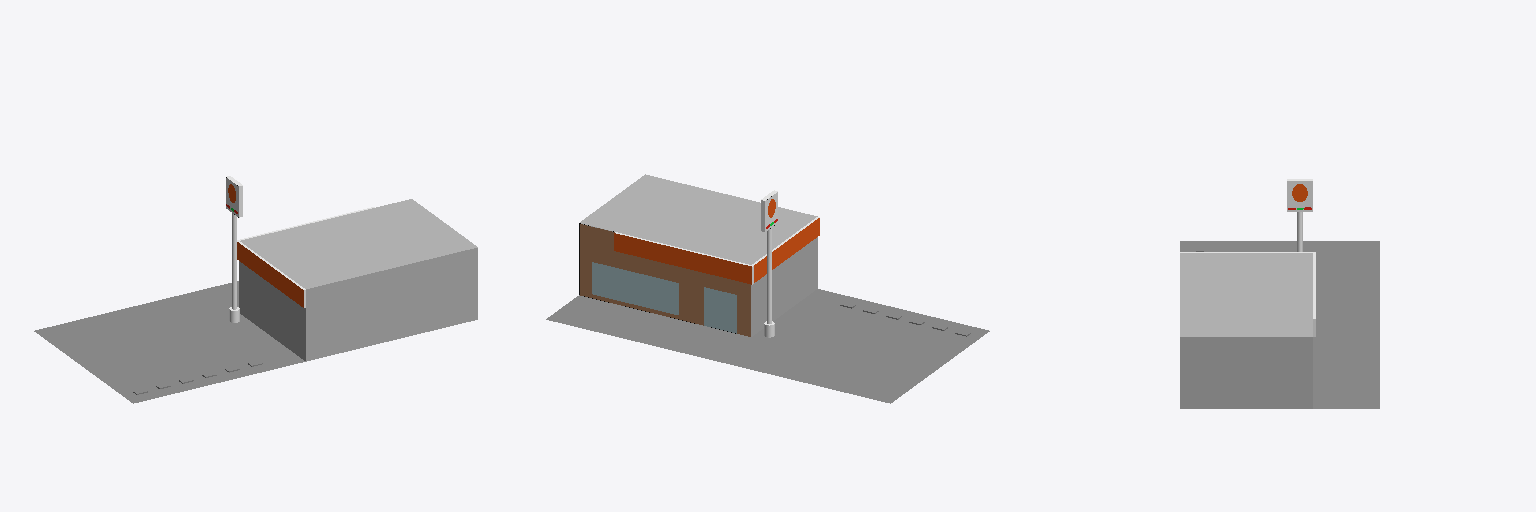
3 renders of one model, left to right at view 1: azimuth 30°, elevation 25°; view 2: azimuth 150°, elevation 25°; view 3: azimuth 270°, elevation 25°, orthographic.
Visible parts, largest first — view 1: 立方体.005; view 2: 立方体.005; view 3: 立方体.005.
Part boxes in pixels (bbox=[...]): 立方体.005: bbox=[34, 176, 477, 403]; 立方体.005: bbox=[546, 174, 989, 403]; 立方体.005: bbox=[1180, 179, 1379, 408].
Bounding box in the file's own units: 30 × 11.7 × 15.
1 materials, 1 textured.